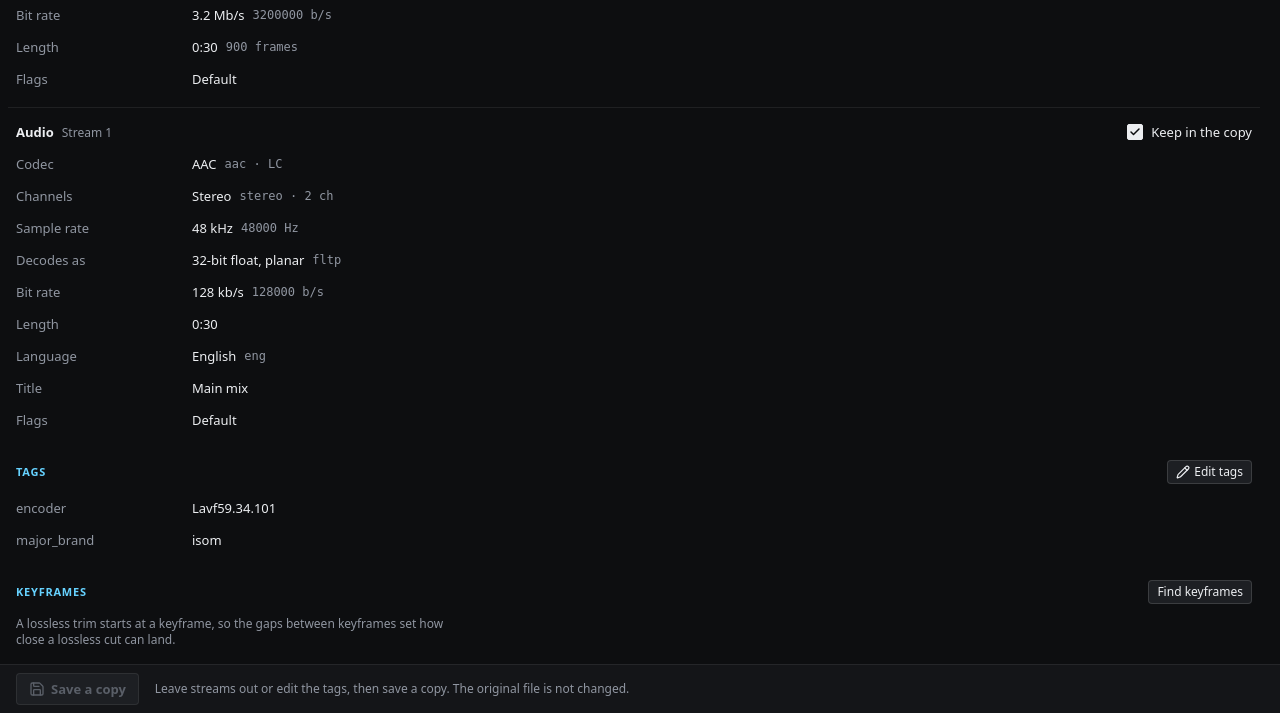
the Inspect view › finds the keyframes on request and sums them up
The width and height of the screenshot is (1280, 713).
(page scrolled)
What coordinates should you click on to do the following:
click the button "Find keyframes"
I would click on:
 (1200, 592)
Its box is [1148,580,1252,604].
(page scrolled)
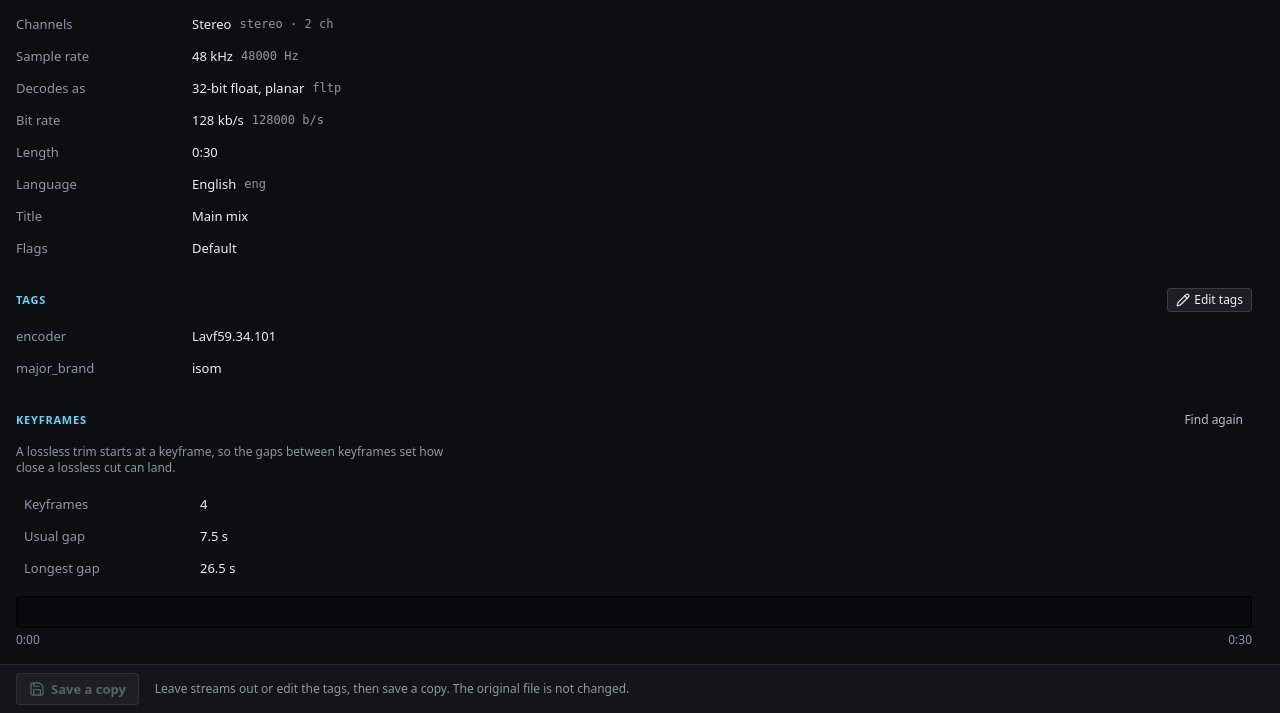
Now the text "4" is shown, box [200,494,207,514]
Now the text "26.5 s" is shown, box [200,558,235,578]
Now the text "7.5 s" is shown, box [200,526,228,546]
